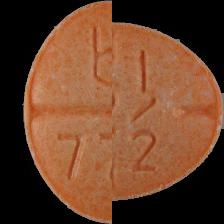0555-0776: (0, 0, 224, 224)
